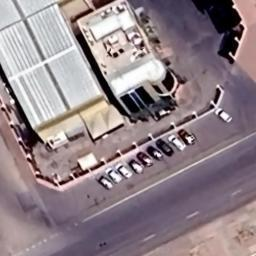sedan: (156, 138, 176, 157), (114, 162, 134, 180), (214, 106, 234, 124), (104, 167, 122, 184), (136, 152, 154, 168), (146, 146, 166, 160), (128, 159, 144, 174), (98, 176, 113, 190)
van: (168, 134, 186, 152), (178, 129, 196, 145)
